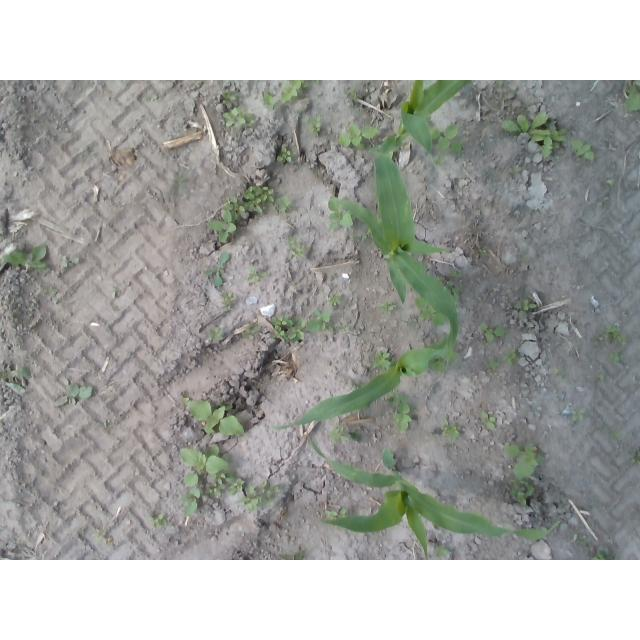Maize: (308, 429, 561, 560), (343, 142, 461, 363), (272, 322, 460, 430), (368, 81, 473, 168)
Weeds: (179, 443, 245, 517), (207, 185, 291, 243), (501, 110, 568, 158), (180, 394, 244, 437), (504, 444, 545, 481), (263, 80, 309, 110), (236, 479, 282, 509), (386, 391, 418, 433), (406, 294, 446, 326), (2, 244, 46, 272), (338, 124, 379, 149), (430, 124, 463, 154), (436, 270, 465, 303), (328, 195, 356, 229), (1, 364, 32, 394), (55, 383, 93, 407), (204, 251, 229, 287), (270, 317, 306, 341), (592, 324, 629, 345), (222, 107, 255, 130), (509, 478, 535, 506), (329, 424, 363, 444), (306, 309, 334, 331), (623, 80, 640, 112), (440, 418, 461, 443), (480, 323, 509, 341), (570, 140, 594, 161), (325, 508, 347, 529), (515, 298, 538, 318), (370, 350, 391, 370), (241, 321, 262, 340), (288, 237, 305, 260), (590, 548, 619, 561), (306, 116, 323, 137), (276, 148, 297, 165), (247, 266, 267, 282), (352, 227, 373, 241), (482, 411, 497, 430), (428, 358, 447, 373), (148, 513, 168, 527), (504, 348, 520, 365), (221, 294, 235, 311), (222, 89, 239, 103), (486, 358, 501, 373), (436, 546, 453, 559), (61, 257, 81, 268), (379, 300, 397, 312), (280, 552, 304, 560), (629, 450, 640, 467), (208, 328, 222, 341), (327, 293, 341, 306), (571, 408, 585, 421), (573, 534, 588, 546), (608, 352, 624, 363), (170, 177, 186, 188), (432, 154, 445, 167), (347, 89, 359, 101), (610, 428, 622, 439), (95, 530, 104, 543), (506, 167, 522, 174), (605, 177, 615, 187), (42, 288, 56, 295), (479, 247, 487, 257), (338, 325, 350, 331), (600, 373, 607, 382), (557, 373, 564, 380), (312, 80, 321, 85), (497, 80, 504, 84)
